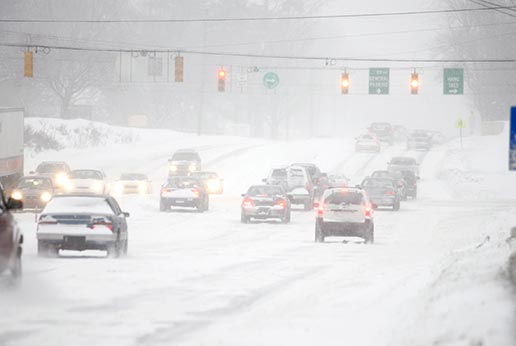car: (35, 191, 131, 258), (313, 185, 377, 245), (261, 166, 316, 210), (239, 184, 293, 226), (159, 176, 211, 214), (356, 176, 401, 211)
traffic light: (408, 66, 420, 96), (340, 67, 351, 96)
